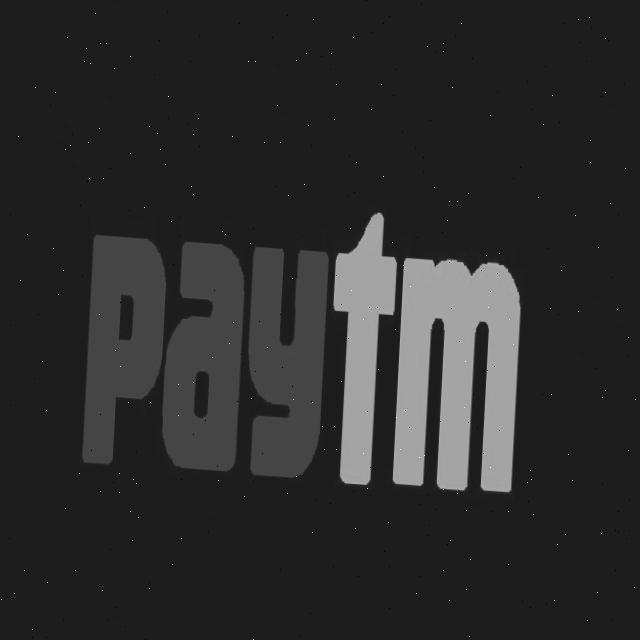fully_visible: (72, 196, 547, 509)
